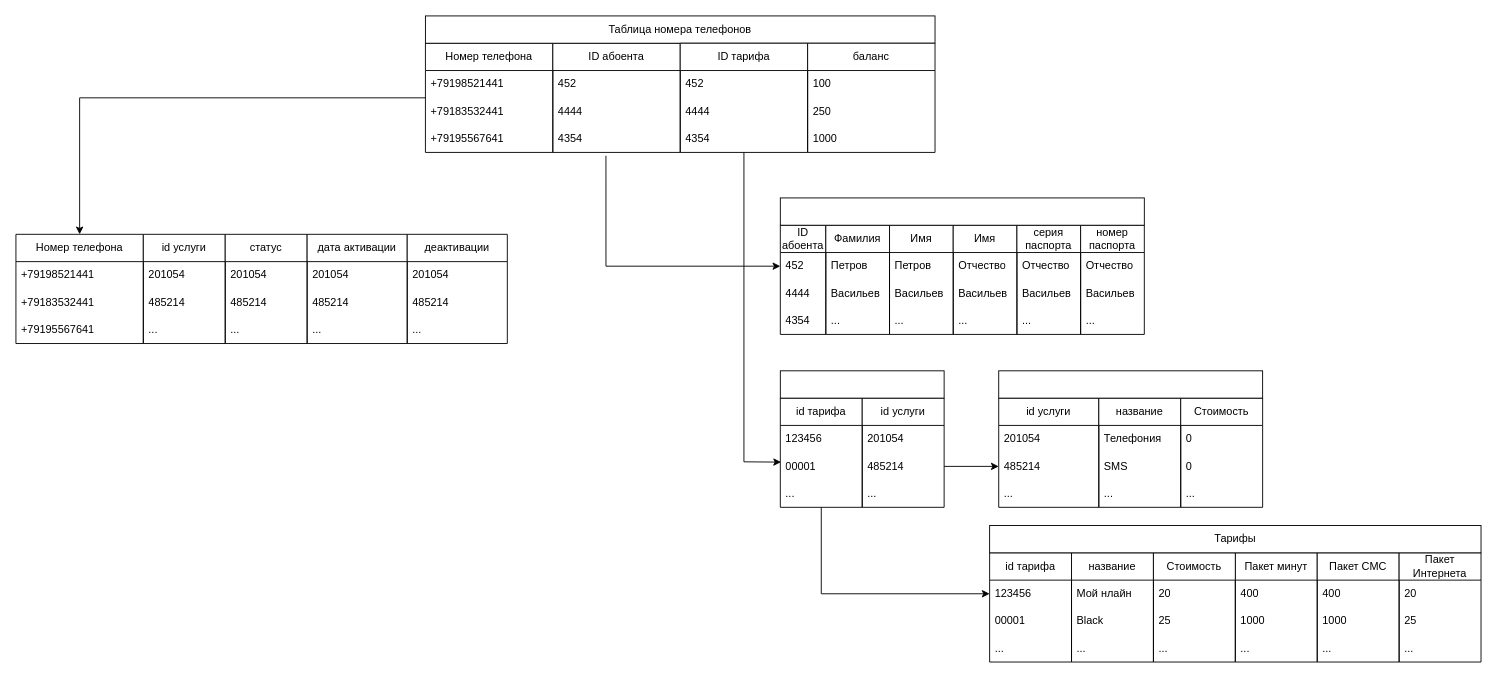
Some shapes in this 1497 by 678 pixel diagram are drawn without their labels. The centre of each missing label's shape, as x and y in pixels:
"Личный данные абоента" goes at (x=961, y=211).
"Связь тарифов и услуг" goes at (x=861, y=384).
"Услуги" goes at (x=1130, y=384).
